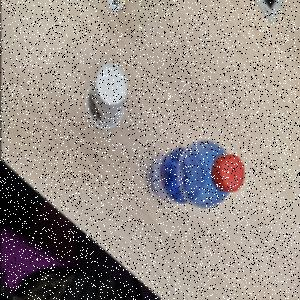Cup: (85, 63, 129, 131)
Plastic-bottle: (149, 141, 245, 211)
